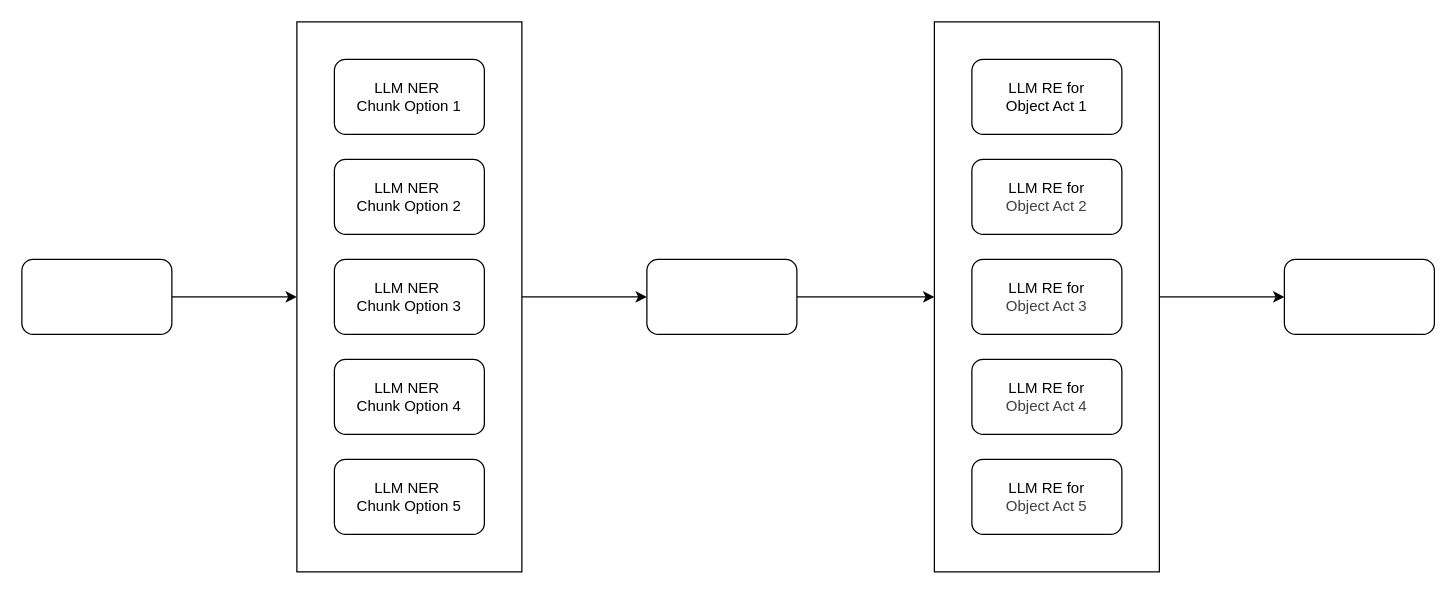
This 1456x594 diagram has some shape labels left out. The shapes that lost their labels are listed below. From the top down, each one's centre as x and y in pixels, then its label:
the point at 96,296: Text input
the point at 721,296: Aggregated Object Acts
the point at 1358,296: Final Result
